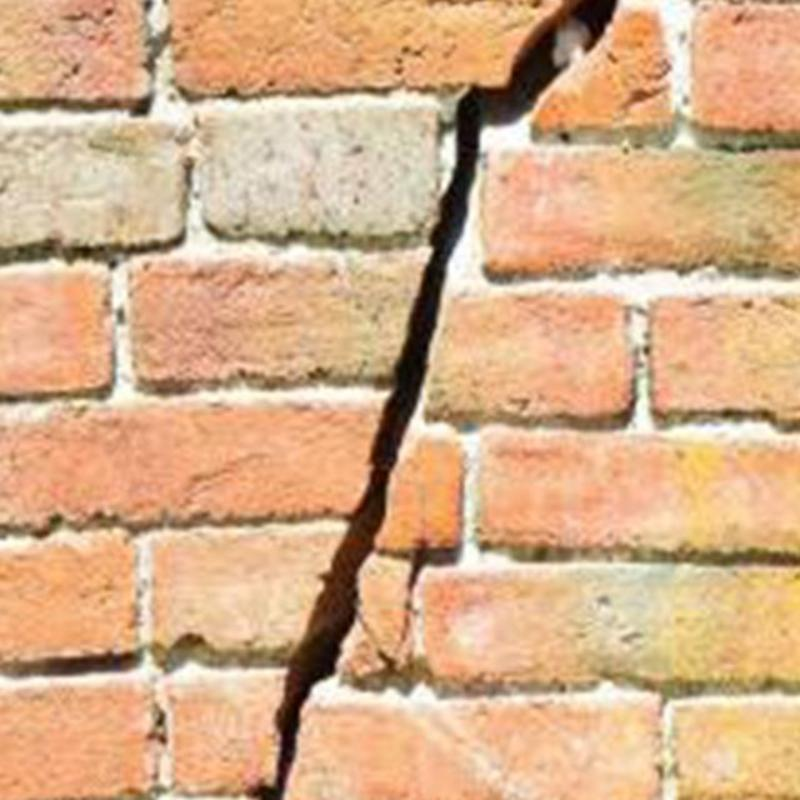pothole: (270, 0, 616, 800)
